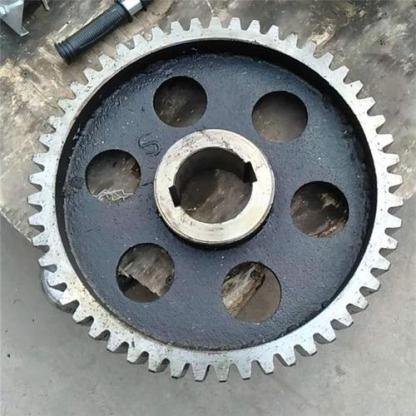FOD: (23, 12, 404, 387)
